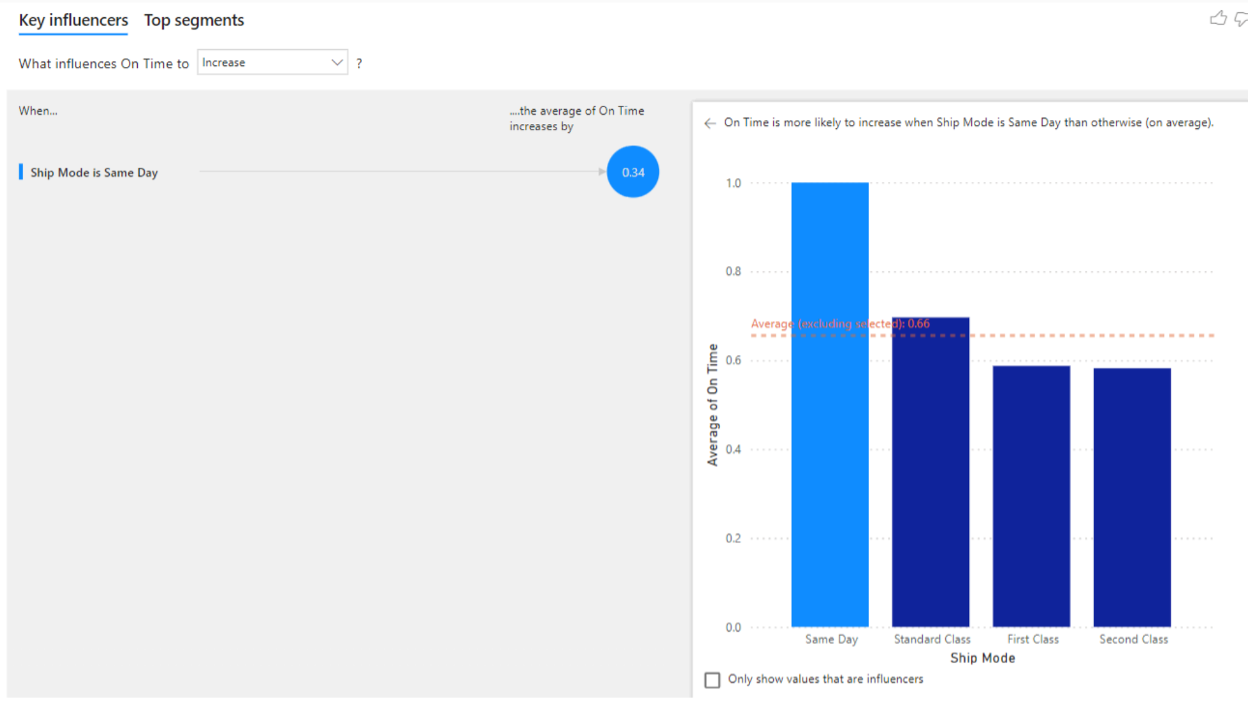

Layout of this report page (visuals, bound fields, positions):
{"tool":"powerbi","page":{"name":"Key Influencers","canvas":[1280,720],"ordinal":5},"visuals":[{"type":"keyDriversVisual","fields":{"Target":["Whole_Store_data.On Time"],"ExplainBy":["Whole_Store_data.Ship Mode"]},"box":[9.5,0,885.2,708.8],"z":0}]}

Visuals, with their boxes in screenshot pixels (x1, y1, x2, y2), scaled from the page's 1280x720 canvas onto the 1248x701 screenshot:
keyDriversVisual - Whole_Store_data.On Time x Whole_Store_data.Ship Mode: {"left": 9, "top": 0, "right": 872, "bottom": 690}
